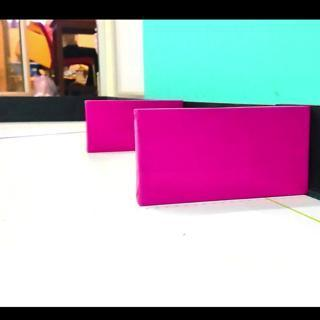xparking: (140, 110, 308, 206), (88, 102, 134, 152)
